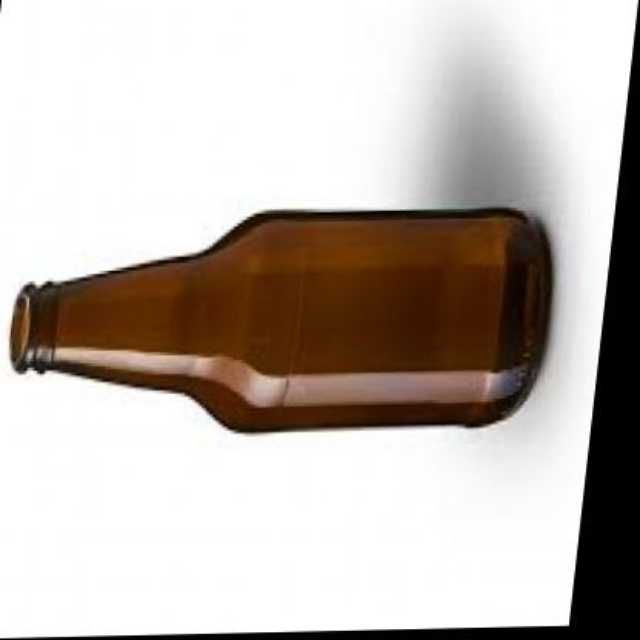trash: (11, 208, 551, 431)
